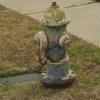a fire hydrant: (37, 2, 78, 85)
